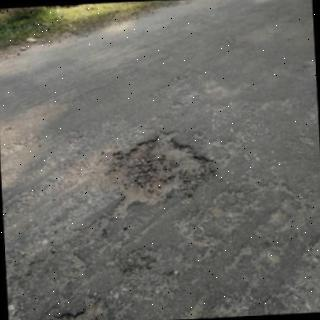pothole: (111, 132, 213, 221)
